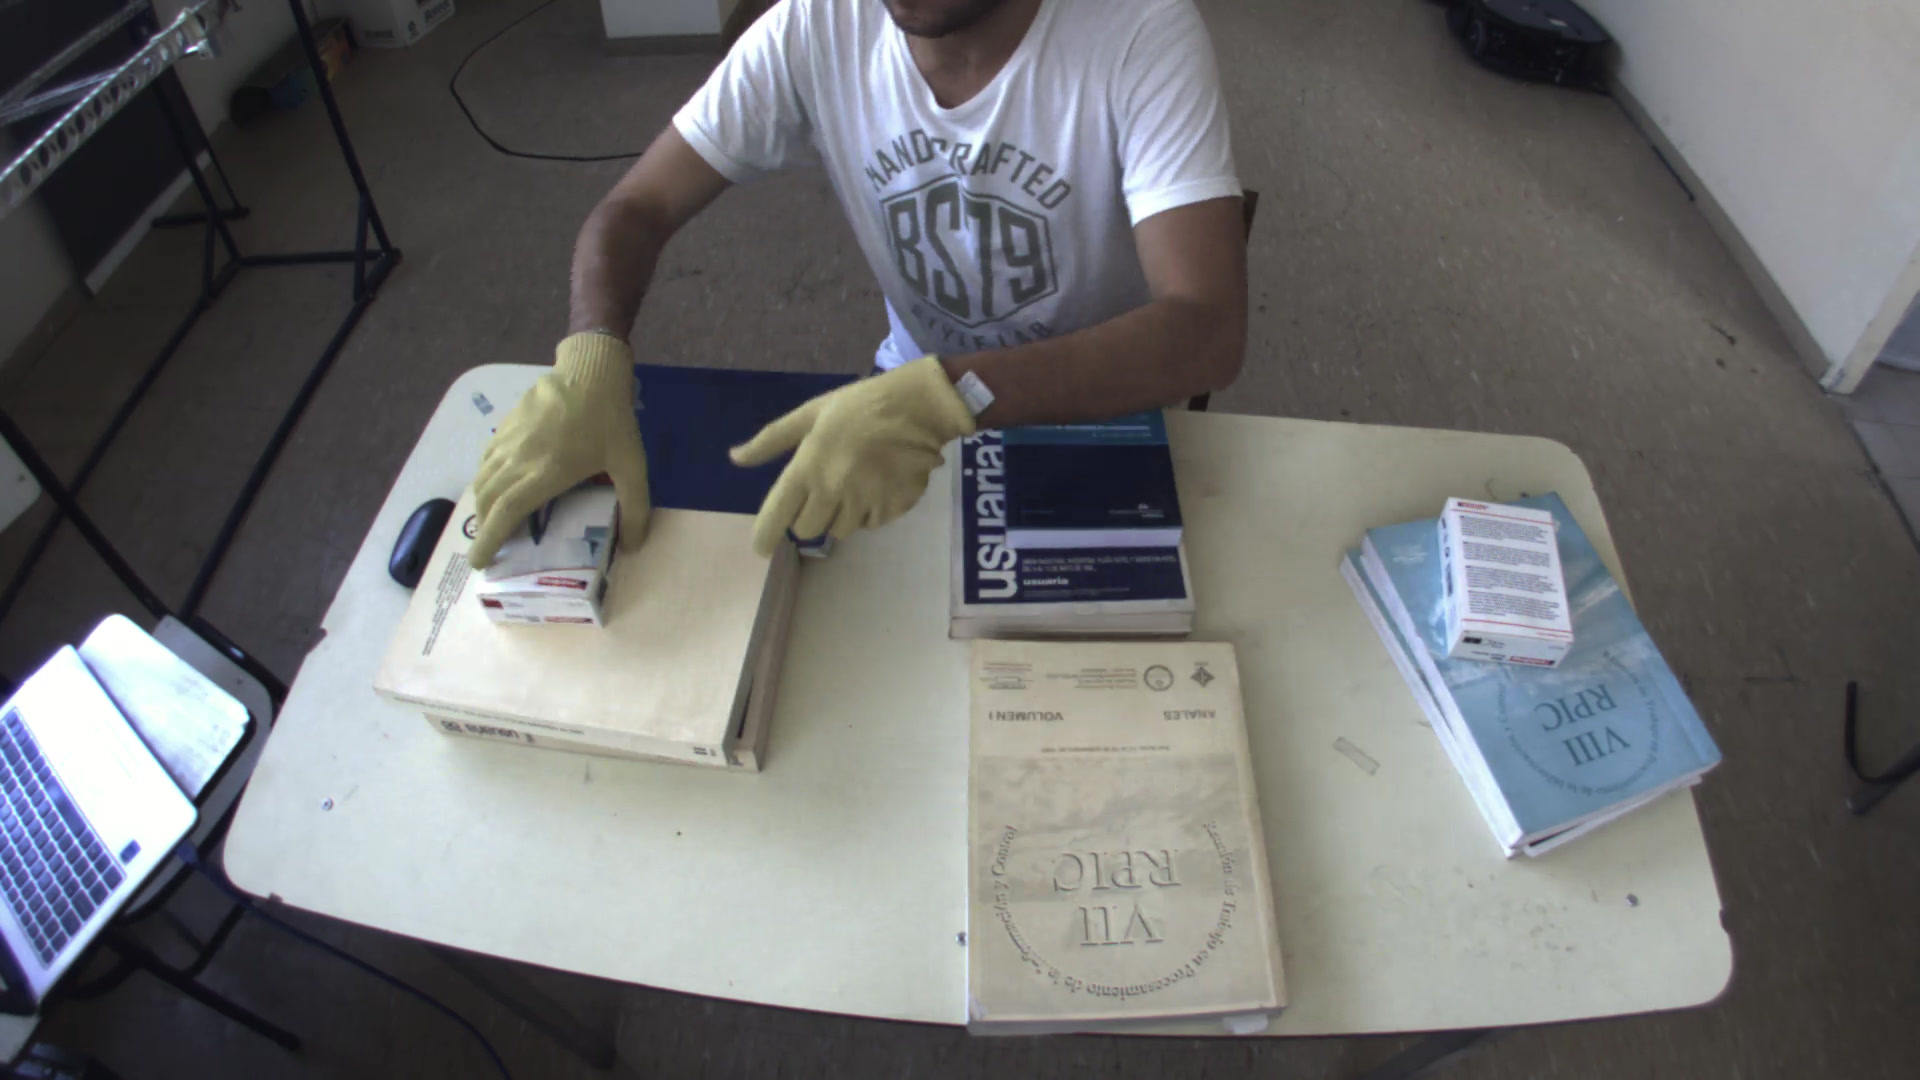hand: (709, 347, 992, 560), (436, 324, 655, 568)
